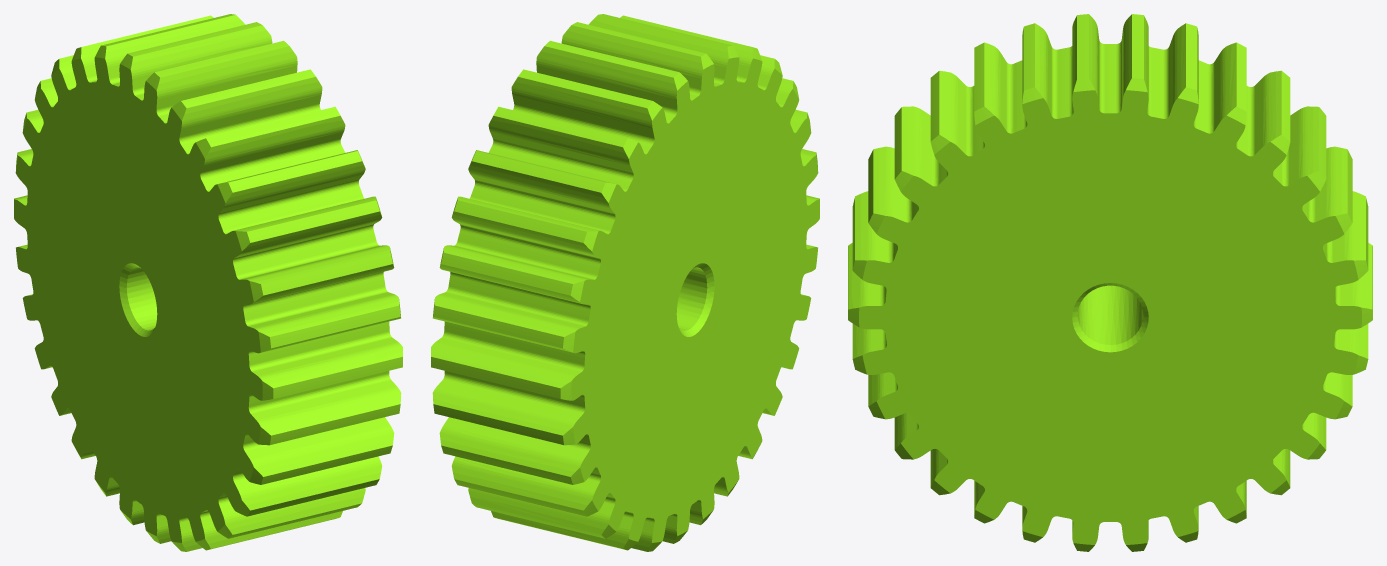
The picture shows the model from 3 angles, left to right: view 1: azimuth 30°, elevation 25°; view 2: azimuth 150°, elevation 25°; view 3: azimuth 270°, elevation 25°; orthographic projection.
Size of the model in its own units: 15 by 47.84 by 48.
